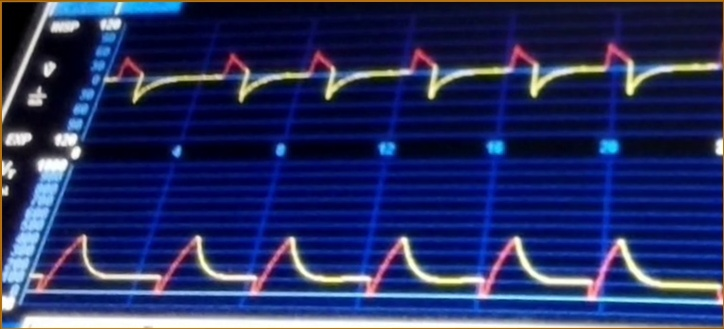Flow: (116, 28, 723, 129)
Leakage Volume: (52, 202, 721, 311)
